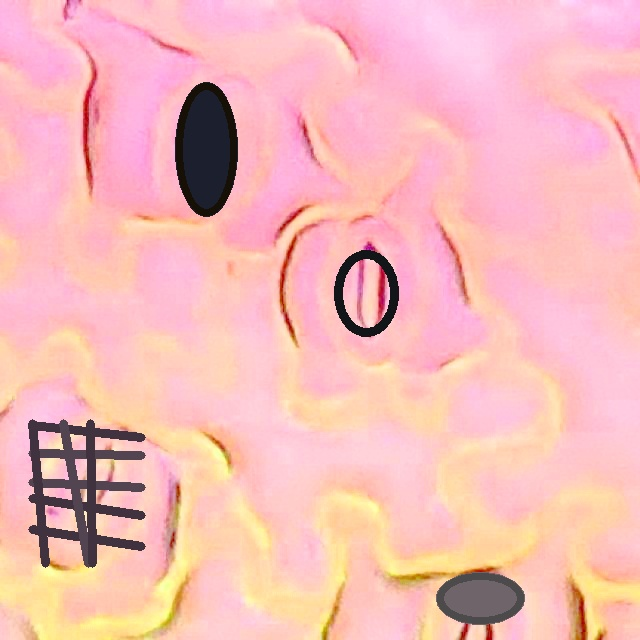close: (175, 82, 237, 216)
open: (28, 419, 145, 567), (333, 249, 398, 337), (436, 573, 524, 624)
